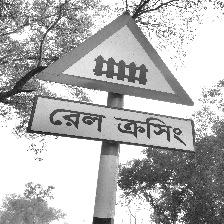Rail-crossing: (28, 10, 197, 154)
